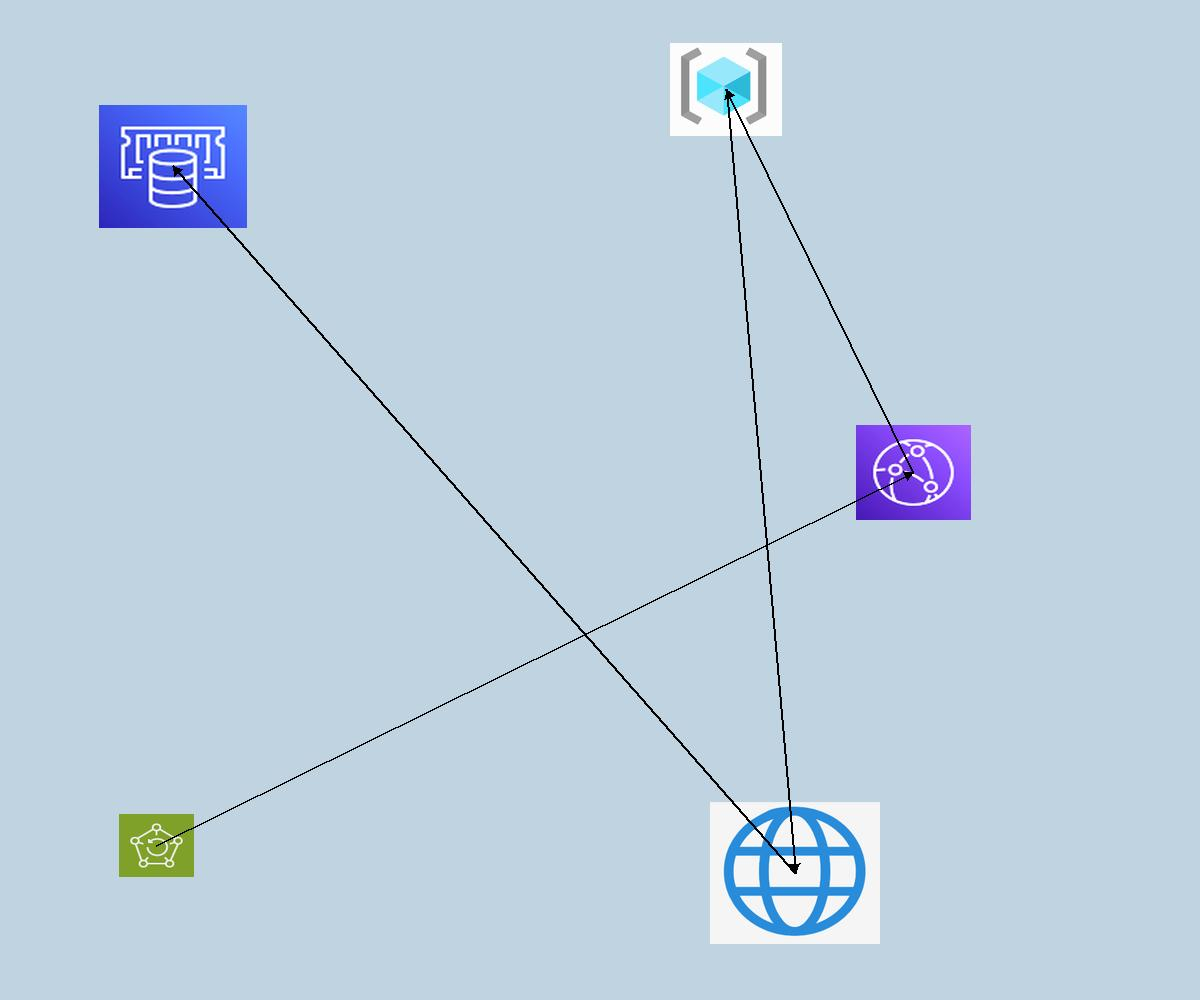AWS-Backup: (119, 814, 194, 877)
AWS-CloudFront: (856, 425, 971, 520)
AWS-ElastiCache: (99, 105, 247, 228)
Azure_http: (710, 802, 880, 944)
Azure_resource_group: (670, 43, 782, 136)
